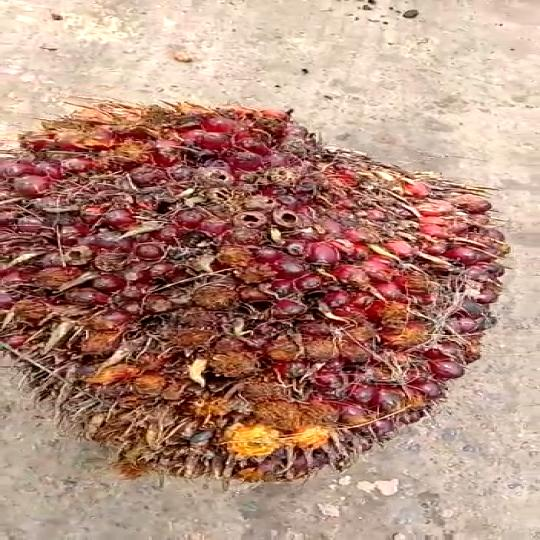masak: (0, 103, 523, 488)
